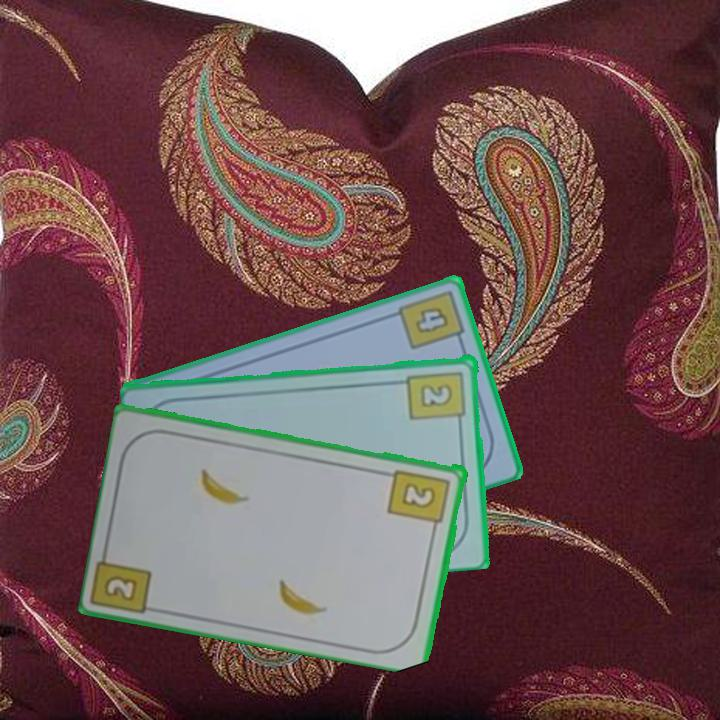2b: (385, 466, 453, 535), (405, 367, 469, 429), (104, 574, 137, 601)
4b: (395, 285, 467, 353)
